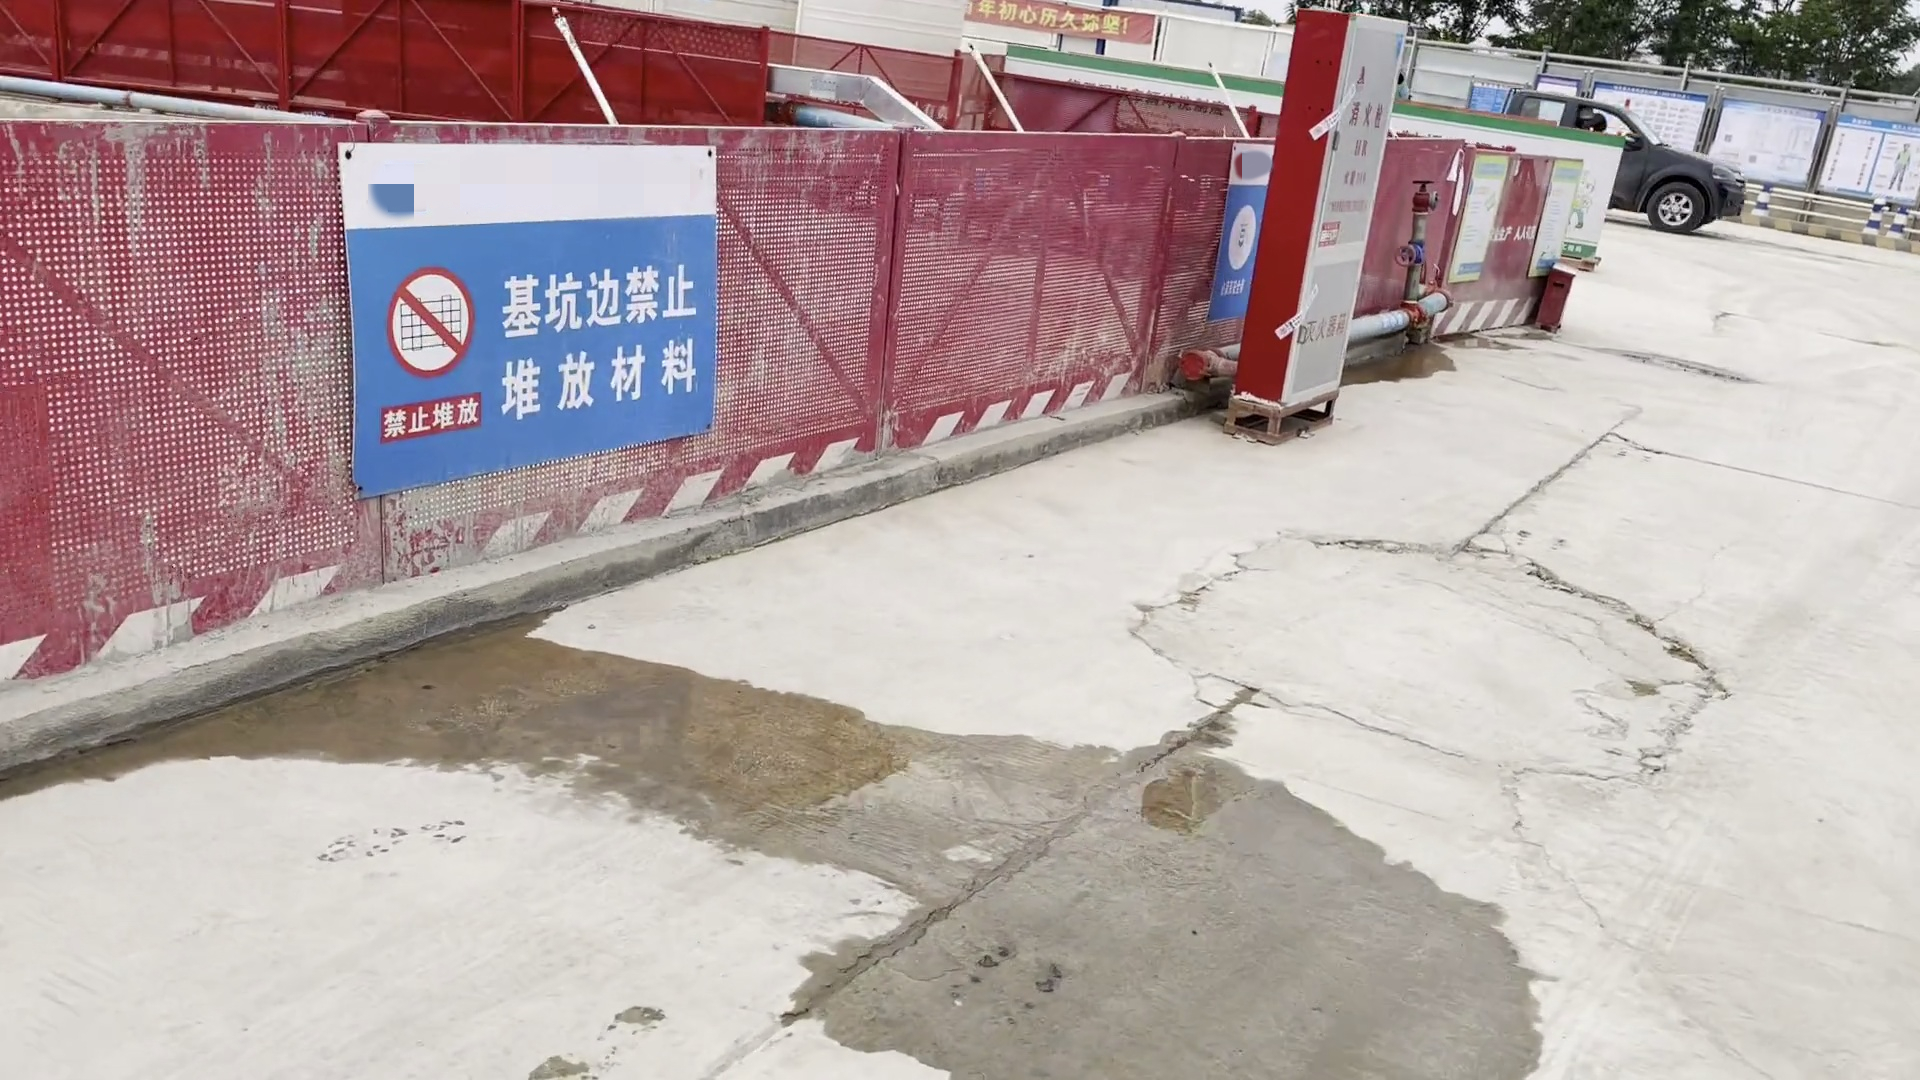fence: (1, 128, 1215, 676)
slogan: (347, 141, 727, 498), (1200, 135, 1274, 318), (1441, 146, 1520, 293), (1522, 161, 1584, 284)
